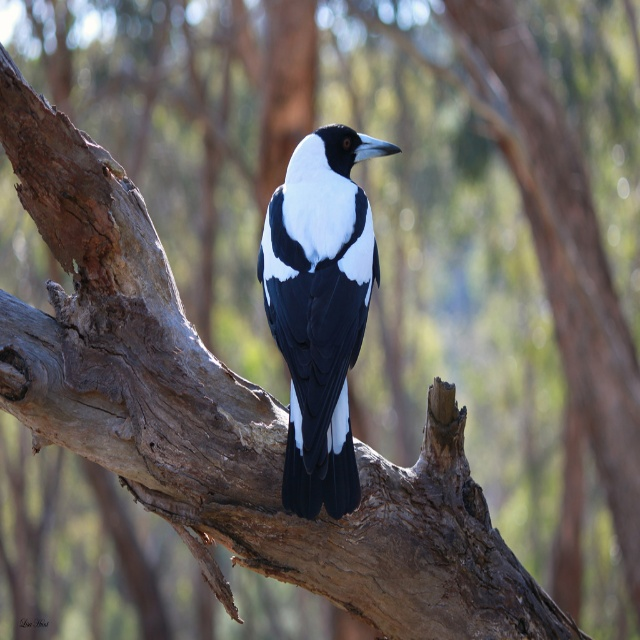Magpie: (257, 124, 402, 520)
